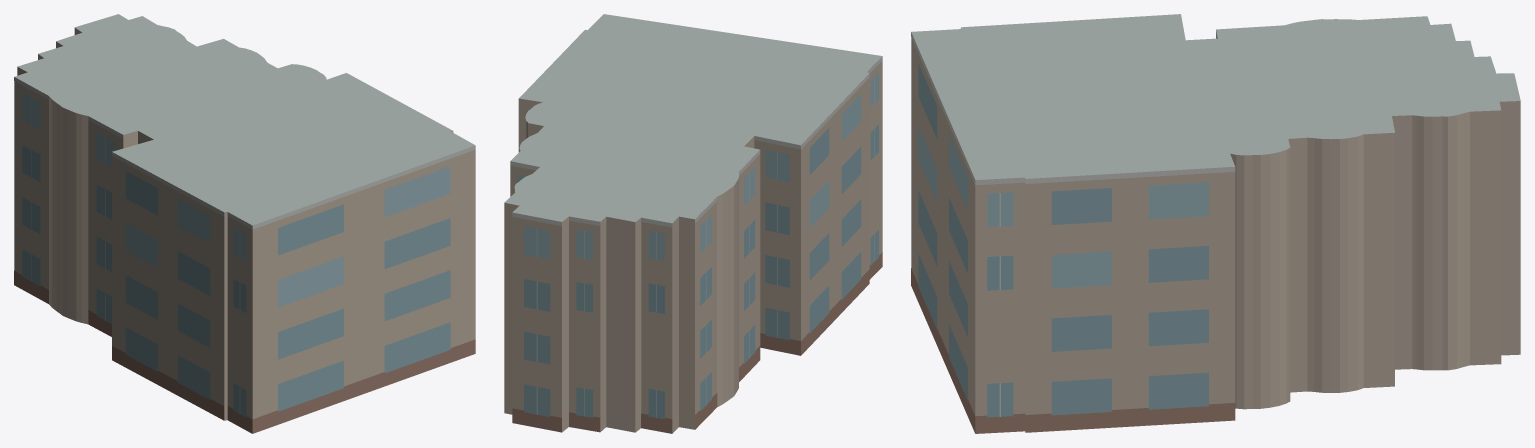
Rendered from survey-upis-32577222.glb.
3 renders of one model, left to right at view 1: azimuth 30°, elevation 25°; view 2: azimuth 150°, elevation 25°; view 3: azimuth 270°, elevation 25°, orthographic. The views are drawn at different scales.
Parts seen in each view (by area): view 1: survey-upis-32577222.tmp; view 2: survey-upis-32577222.tmp; view 3: survey-upis-32577222.tmp.
Part boxes in pixels (x1,y1,x2,y2): survey-upis-32577222.tmp: [14, 14, 475, 433]; survey-upis-32577222.tmp: [504, 14, 882, 433]; survey-upis-32577222.tmp: [911, 14, 1520, 433].
Size of the model in its own units: 17.14 by 12.2 by 26.57.
